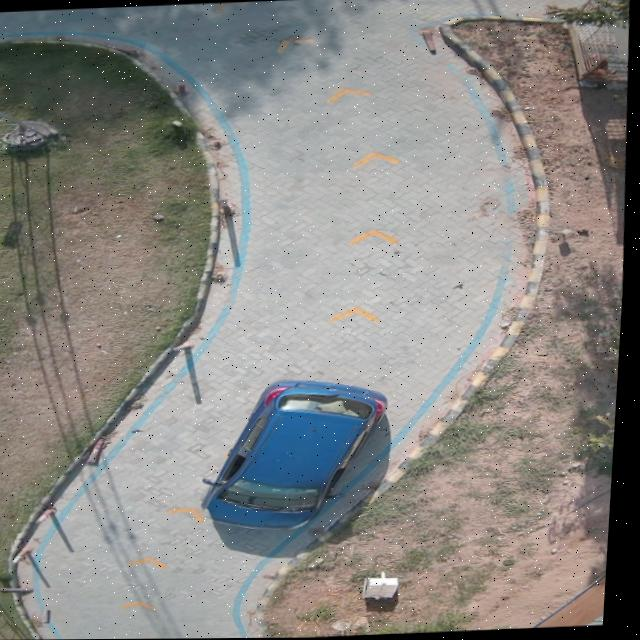car: (207, 379, 391, 529)
